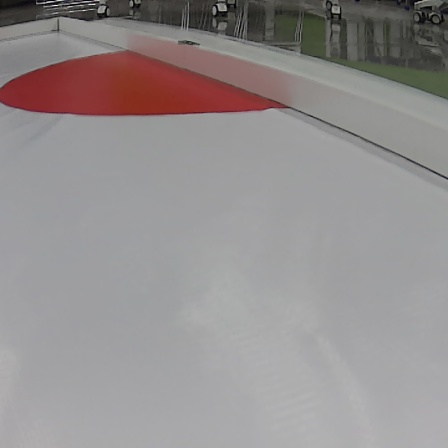red_base: (0, 50, 294, 119)
